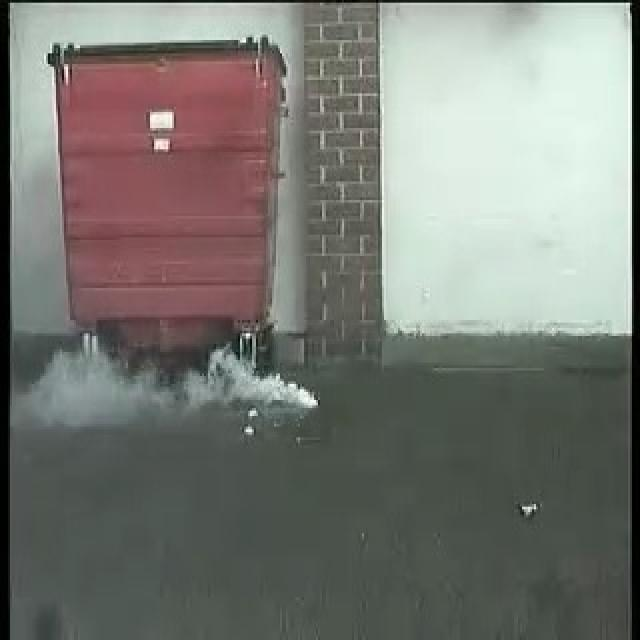smoke: (40, 332, 323, 420)
